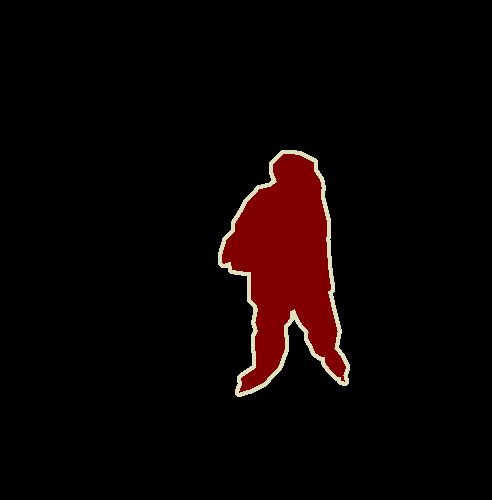person: (221, 151, 349, 395)
person/foot: (238, 366, 276, 389), (323, 349, 348, 378)
person/hand: (218, 240, 236, 267), (233, 254, 260, 272)
person/head: (275, 152, 313, 201)
